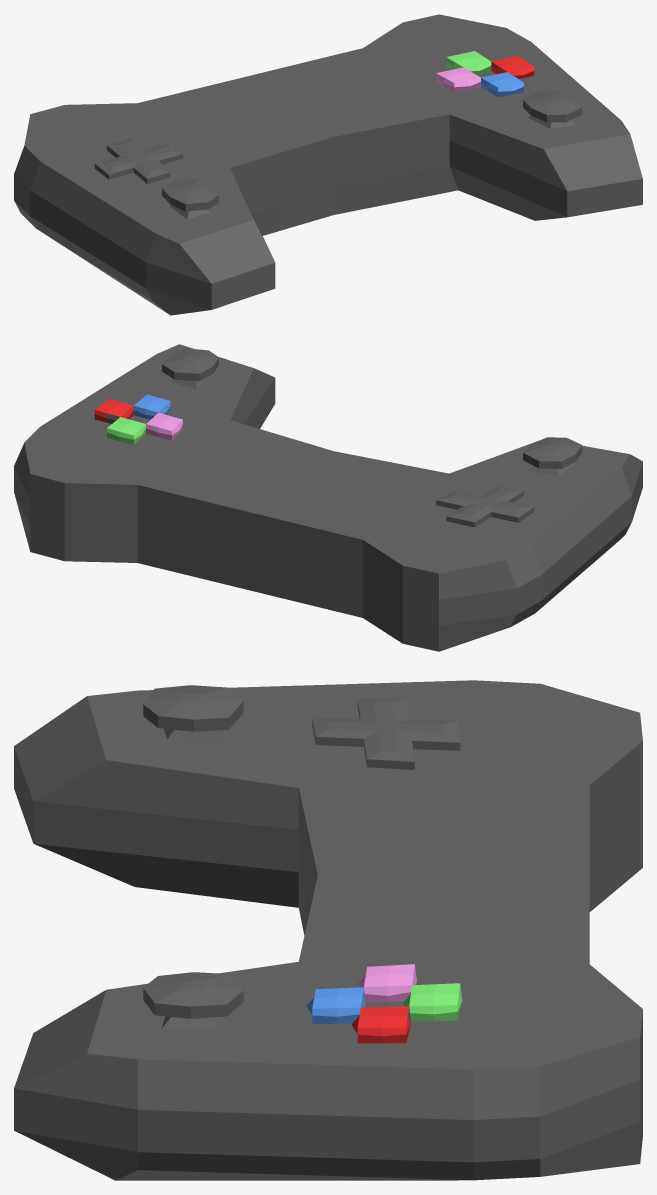
Rendered from Props_Bedroom_Controle.fbx.
The picture shows the model from 3 angles, top to bottom: view 1: azimuth 30°, elevation 25°; view 2: azimuth 150°, elevation 25°; view 3: azimuth 270°, elevation 25°; orthographic projection. The views are drawn at different scales.
Visible parts, largest first — view 1: Cube.008; view 2: Cube.008; view 3: Cube.008.
Boxes of the visible parts, x1,y1,x2,y2 form: Cube.008: (14, 14, 642, 315); Cube.008: (14, 344, 642, 651); Cube.008: (14, 680, 642, 1180).
Size of the model in its own units: 80.38 by 14.81 by 52.67.
